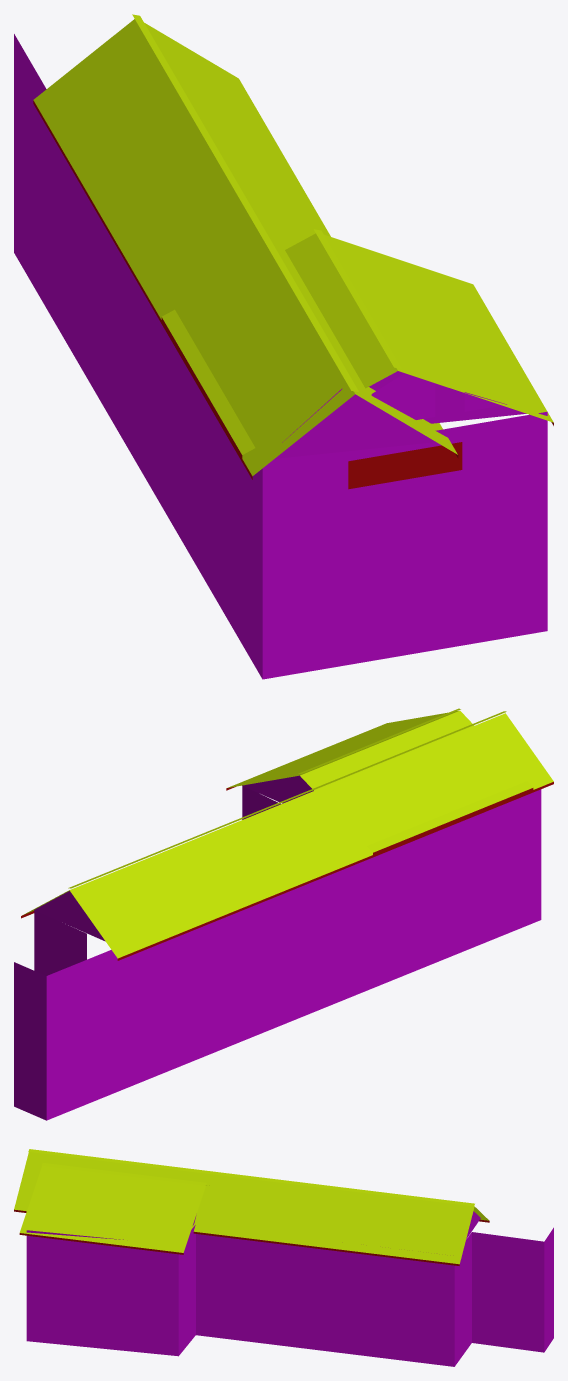
The model's file is bgj_334.glb.
The picture shows the model from 3 angles, top to bottom: view 1: azimuth 30°, elevation 25°; view 2: azimuth 150°, elevation 25°; view 3: azimuth 270°, elevation 25°; orthographic projection. The views are drawn at different scales.
Parts seen in each view (by area): view 1: bgj_334; view 2: bgj_334; view 3: bgj_334.
Boxes of the visible parts, x1,y1,x2,y2 form: bgj_334: (14,14,553,679); bgj_334: (14,708,553,1120); bgj_334: (14,1149,553,1366).
Bounding box in the file's own units: 13.36 × 9.17 × 31.08.
